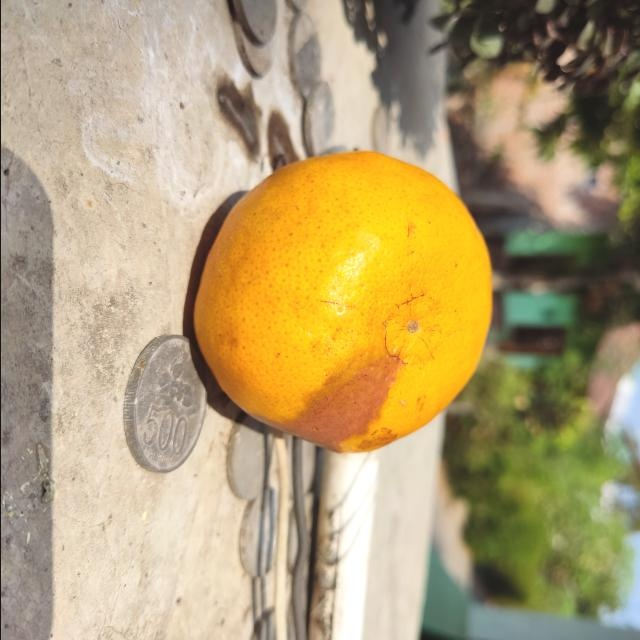agrume: (192, 146, 495, 458)
